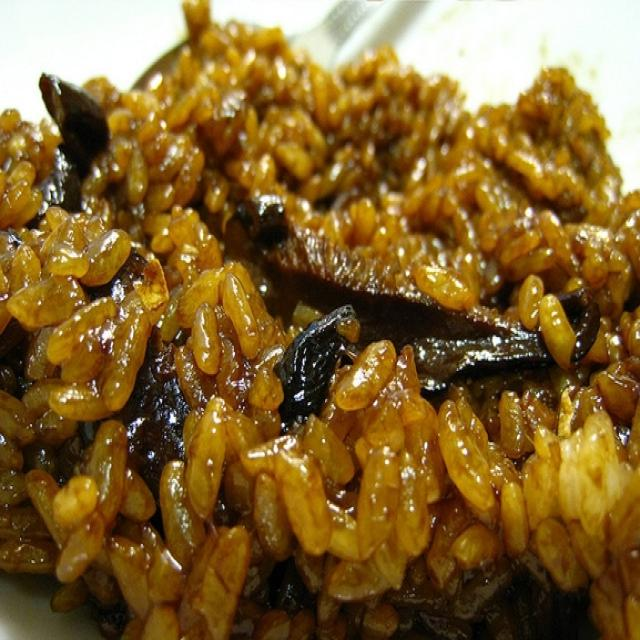米饭主食: (8, 10, 631, 621)
